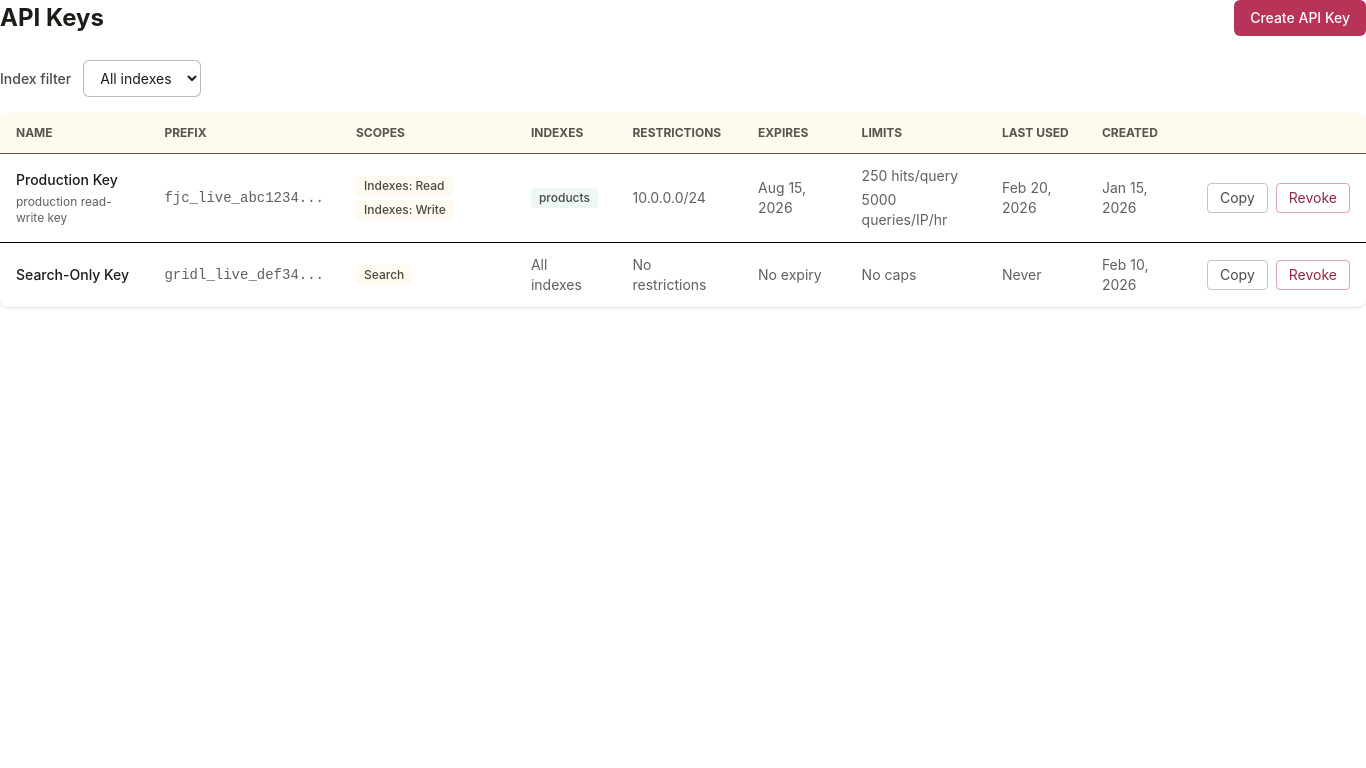
API Keys page › opens a typed revoke confirmation dialog and disables confirm until the key name matches
Click the button "Revoke" in the row of "Production Key".
click(1313, 198)  # box [1276, 183, 1350, 213]
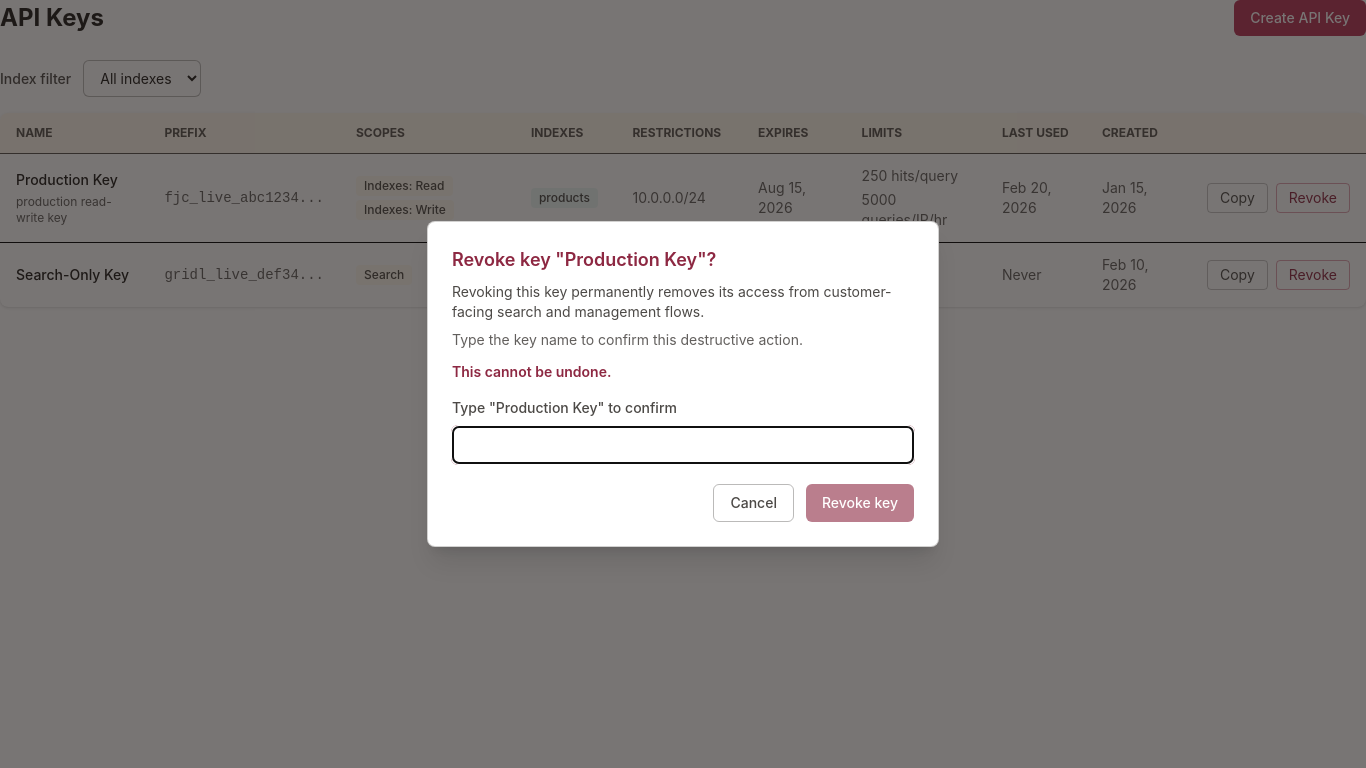
Expected: the dialog is shown
Expected: the button with test id "confirm-confirm-btn" is disabled, [806, 484, 914, 522]
Type "Search-Only Key" into the field with test id "confirm-input".
click(683, 445); type("Search-Only Key")  # box [452, 426, 914, 464]
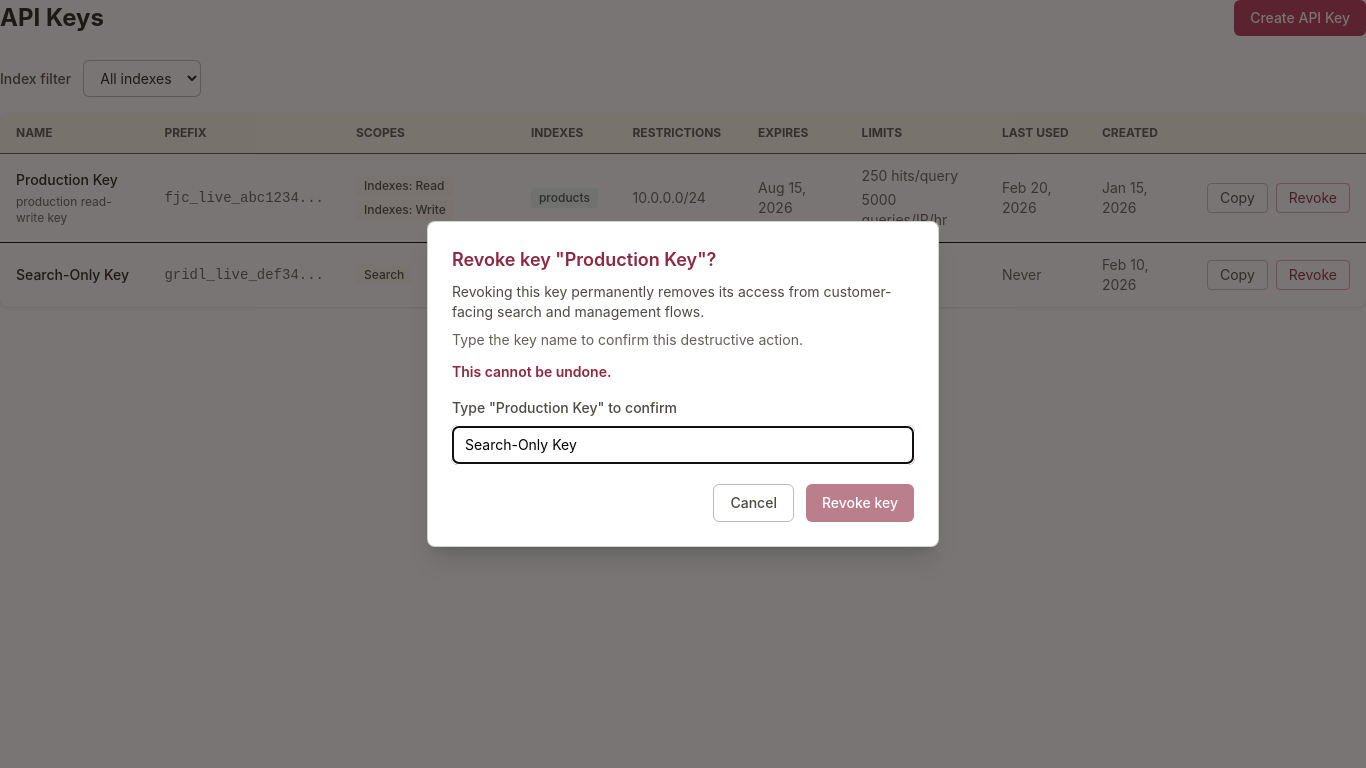
Expected: the button with test id "confirm-confirm-btn" is disabled, [806, 484, 914, 522]
Replace the text in the field with test id "confirm-input" with "Production Key" at (683, 445), box [452, 426, 914, 464]
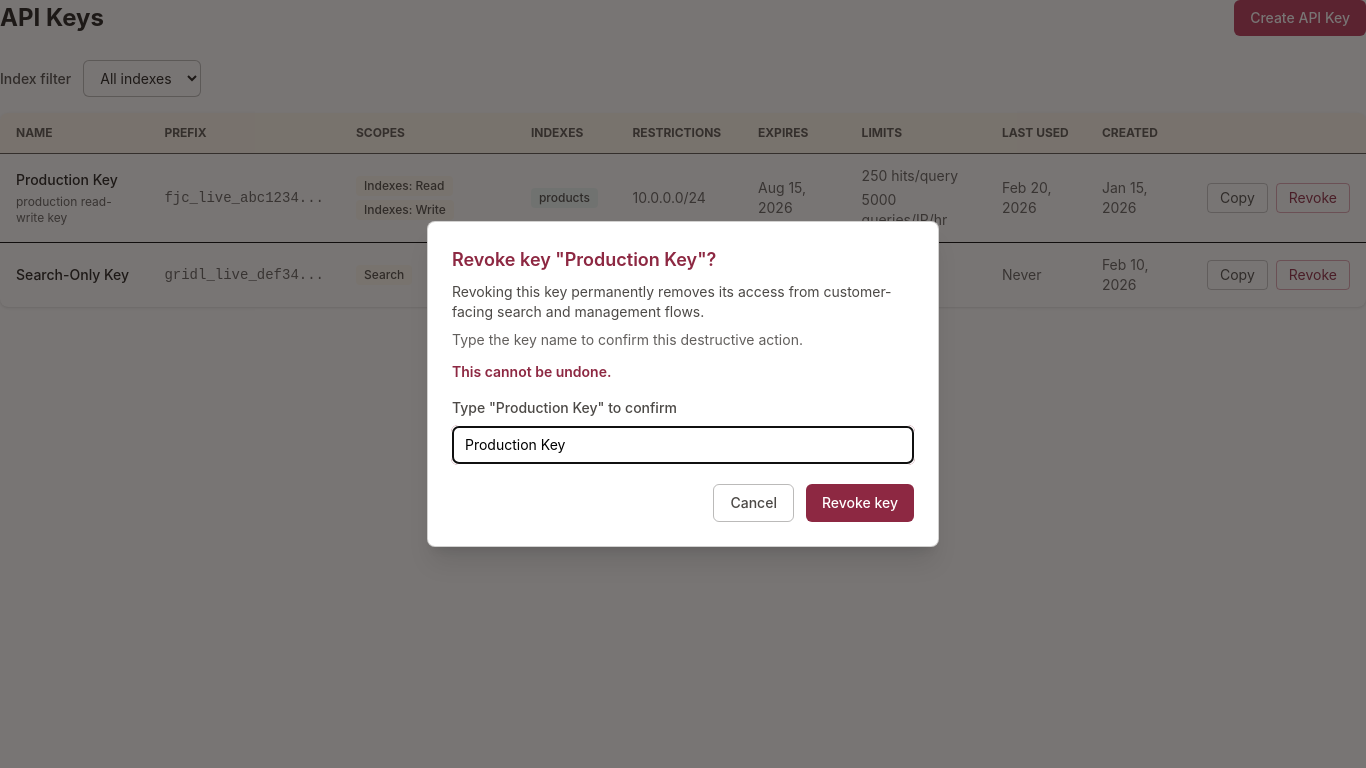
Expected: the button with test id "confirm-confirm-btn" is enabled, [806, 484, 914, 522]
